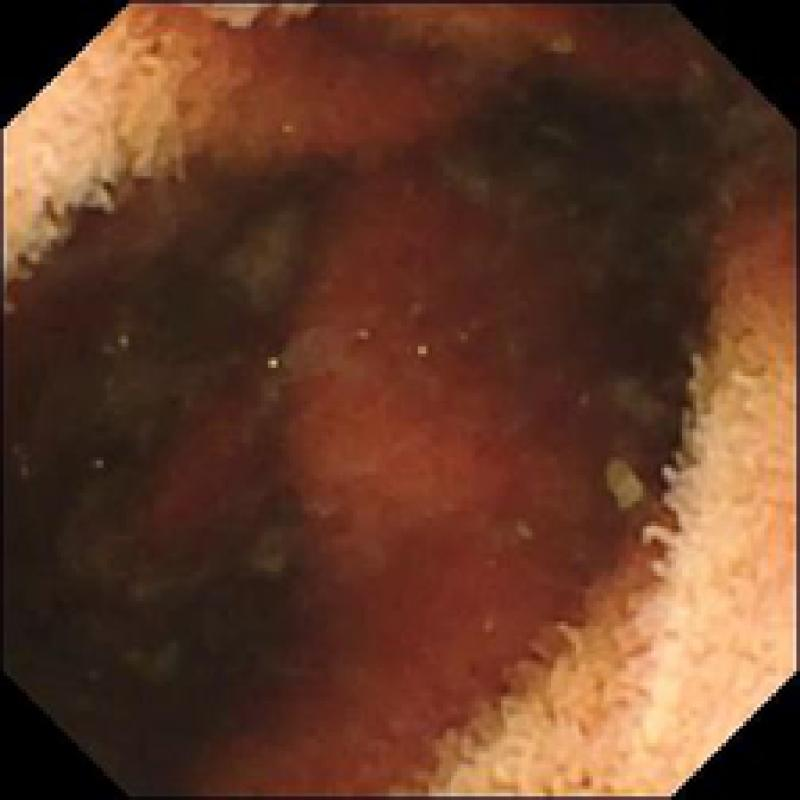bleeding: (140, 400, 272, 532)
